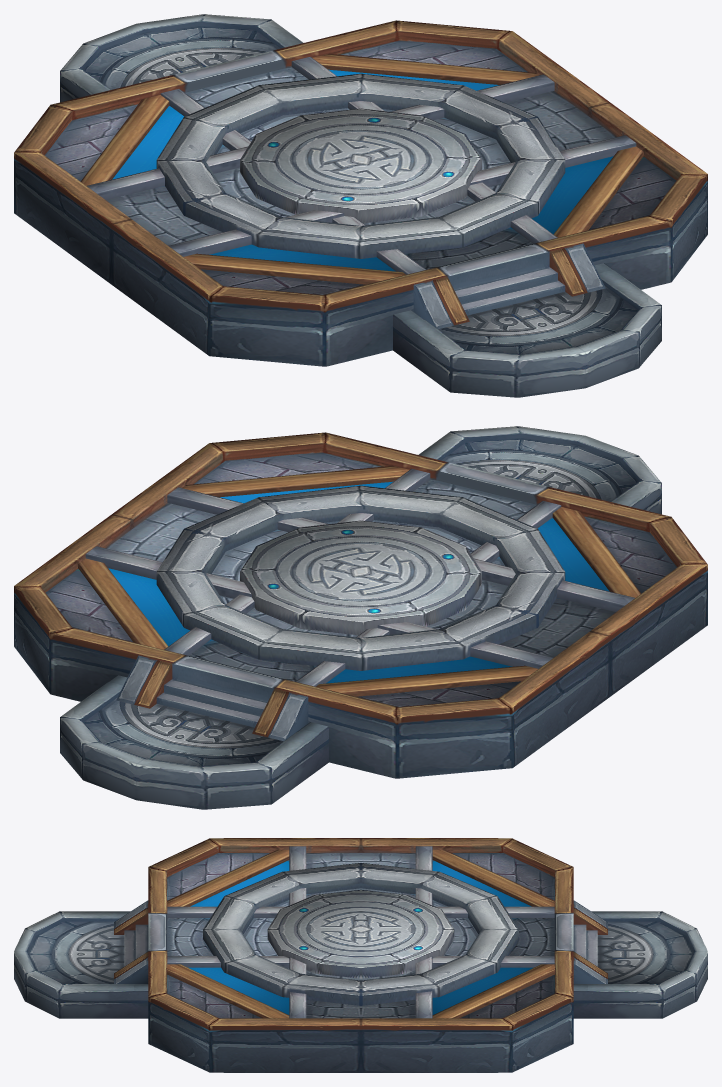
Rendered from QSMY_FB_Env_Battle_LeiTai_01.FBX.
3 renders of one model, top to bottom at view 1: azimuth 30°, elevation 25°; view 2: azimuth 150°, elevation 25°; view 3: azimuth 270°, elevation 25°, orthographic. The views are drawn at different scales.
Parts seen in each view (by area): view 1: QSMY_FB_Env_Battle_LeiTai_01; view 2: QSMY_FB_Env_Battle_LeiTai_01; view 3: QSMY_FB_Env_Battle_LeiTai_01.
Part boxes in pixels (<box>): QSMY_FB_Env_Battle_LeiTai_01: <box>14,14,707,397</box>; QSMY_FB_Env_Battle_LeiTai_01: <box>14,426,707,809</box>; QSMY_FB_Env_Battle_LeiTai_01: <box>14,838,707,1072</box>.
Size of the model in its own units: 34.2 by 4.21 by 53.34.
